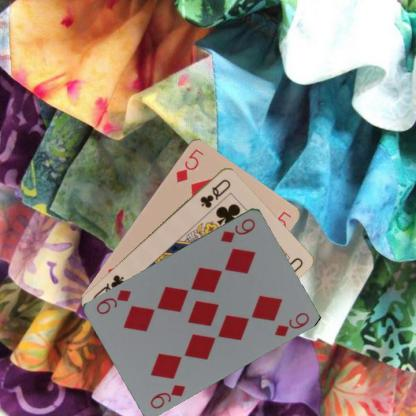5d: (173, 146, 205, 184)
9d: (148, 381, 188, 410), (218, 215, 257, 244)
Qc: (198, 176, 232, 209)
